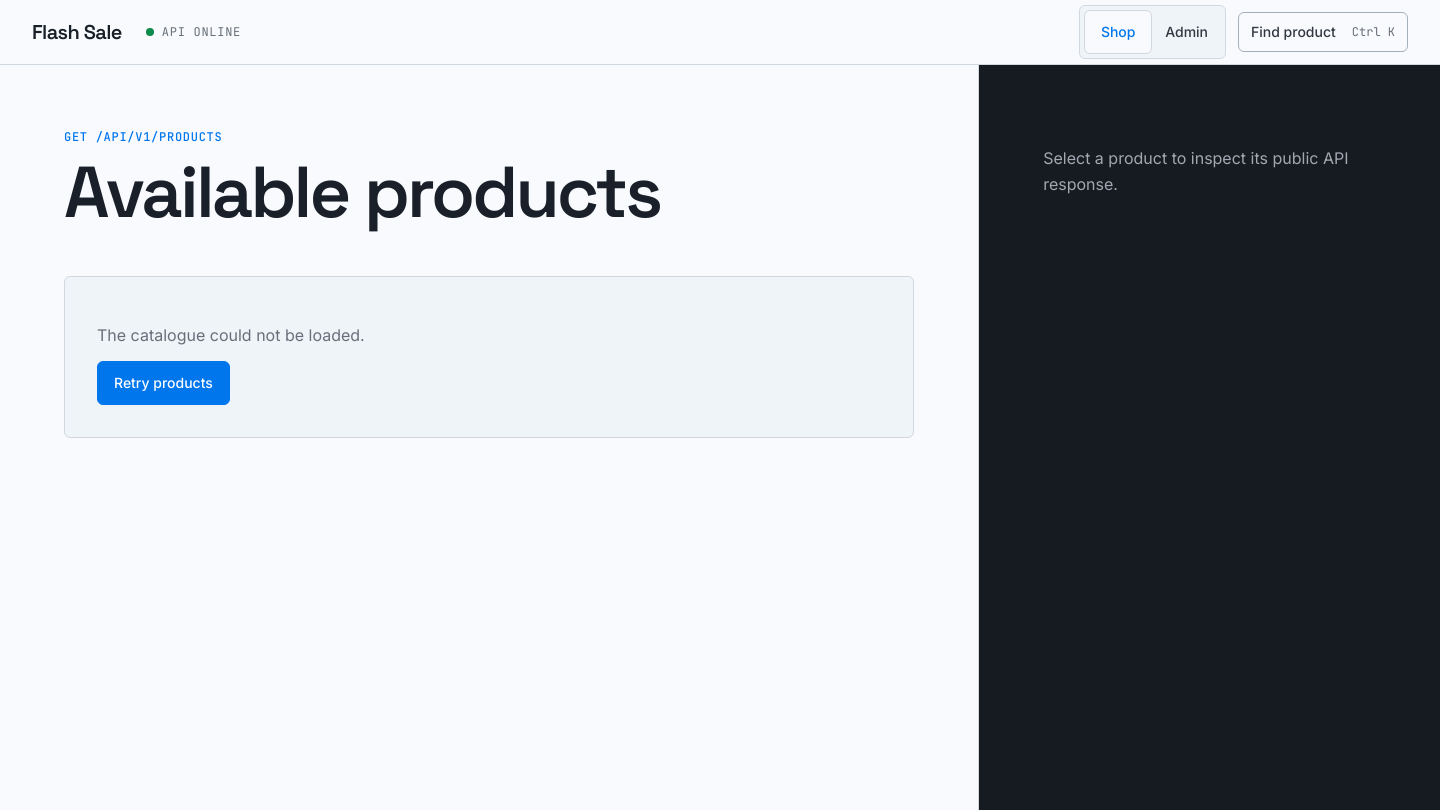
App › shows a recoverable error when the product list request fails
Check: the message named "Products unavailable" shows "The catalogue could not be loaded.", box 97,324 -> 365,344
Click the button "Retry products": (163, 382) 97,360 -> 230,404
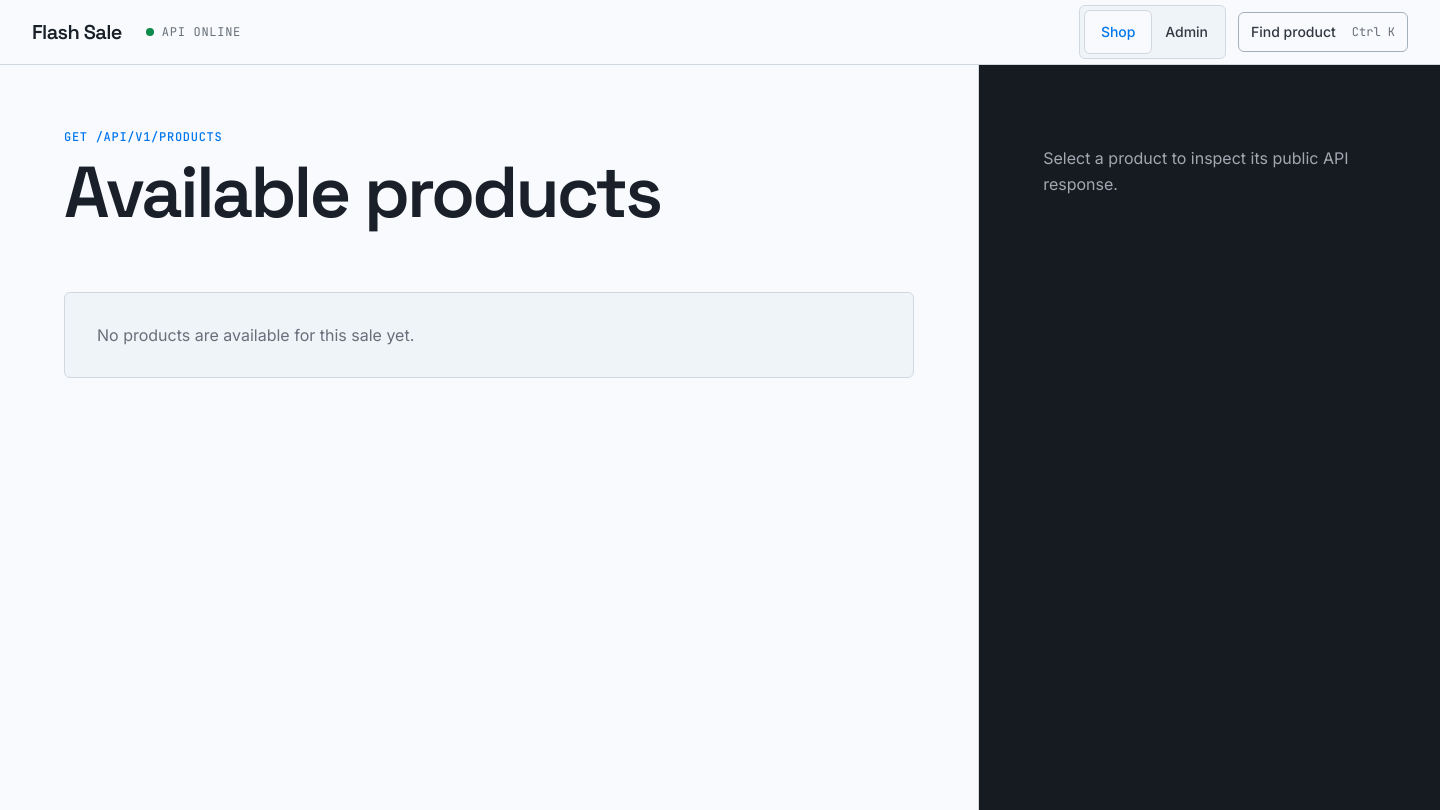
Check: the text "No products are available for this sale yet." is shown, box 64,292 -> 914,378
